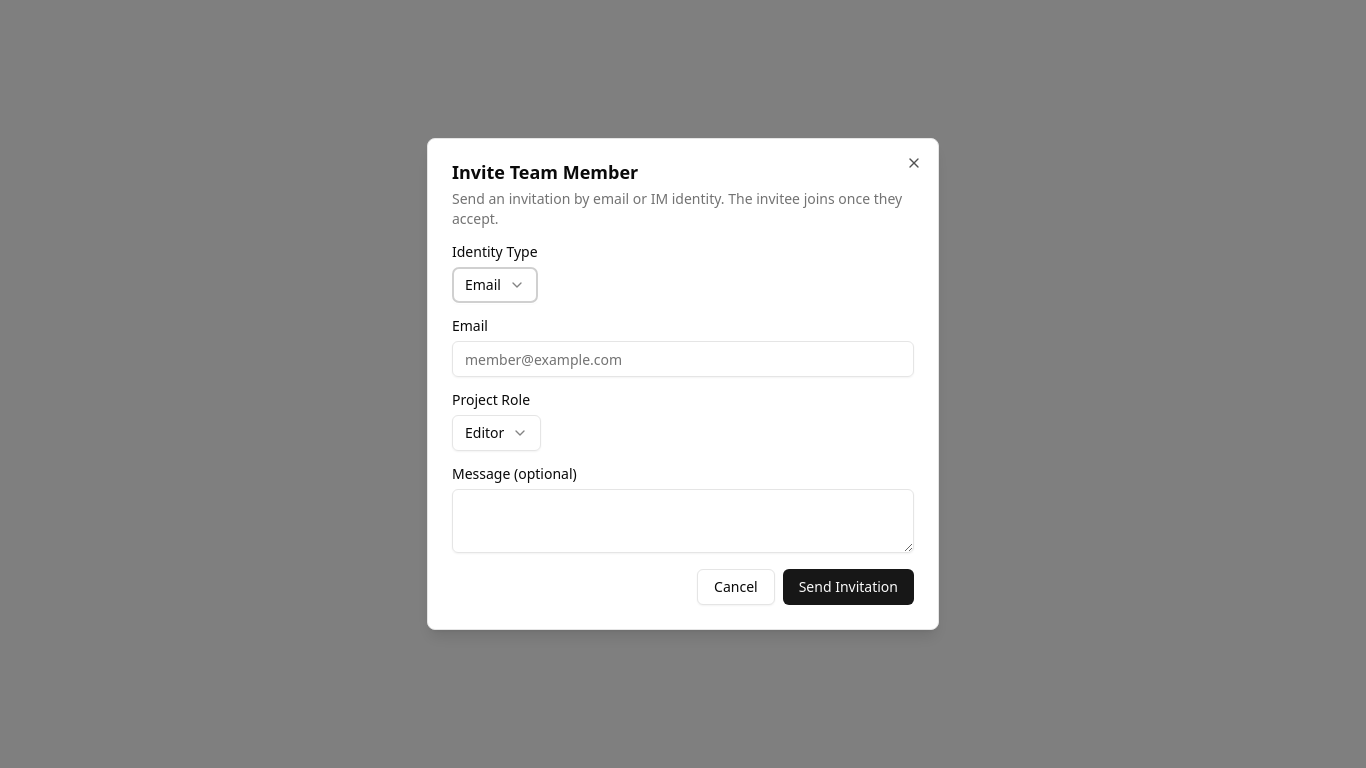
Scenario: InviteMemberDialog › submits an email invitation and shows the accept URL
In the field with placeholder "member@example.com": (683, 359) left=452, top=341, right=914, bottom=377, type "agent@example.com"
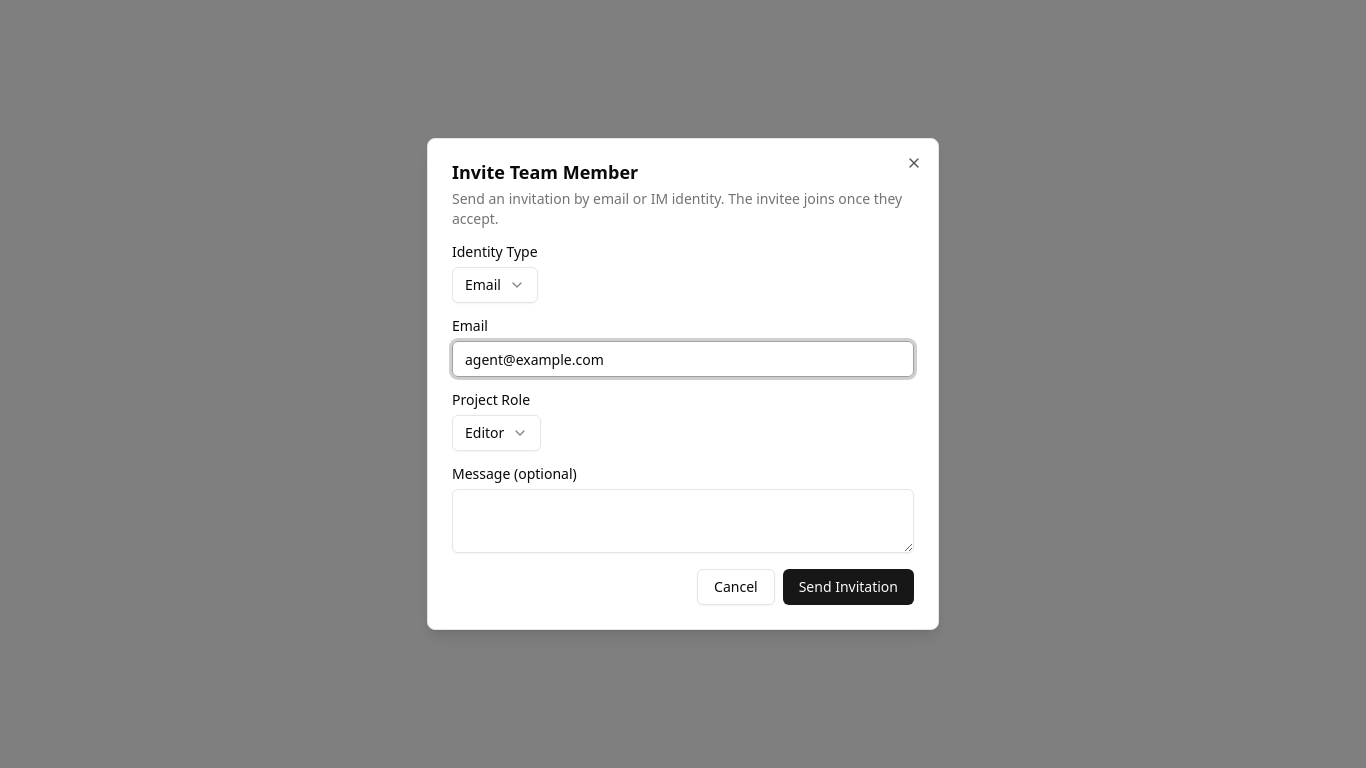
Click the button "Send Invitation": (848, 587) left=783, top=569, right=914, bottom=605
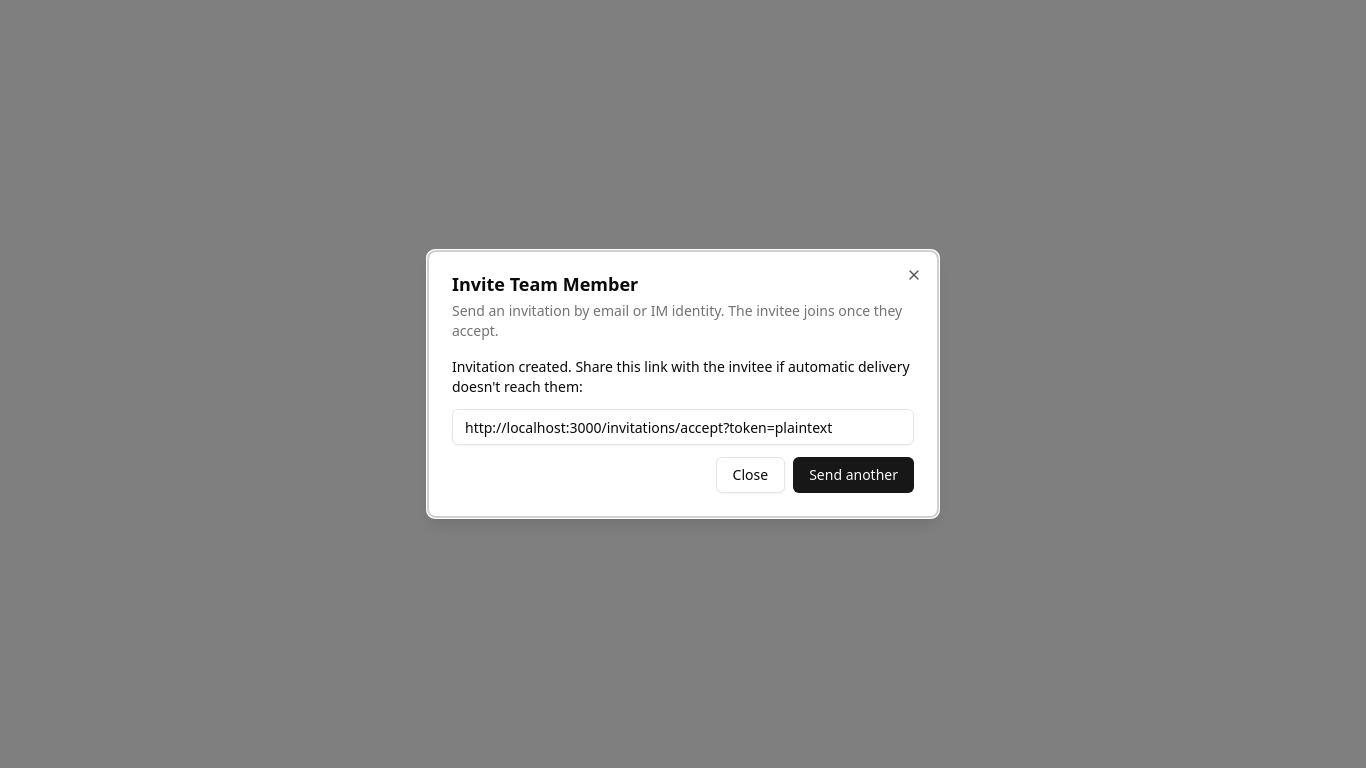
Now the field showing "http://localhost:3000/invitations/accept?token=plaintext" is shown, box left=452, top=409, right=914, bottom=445
